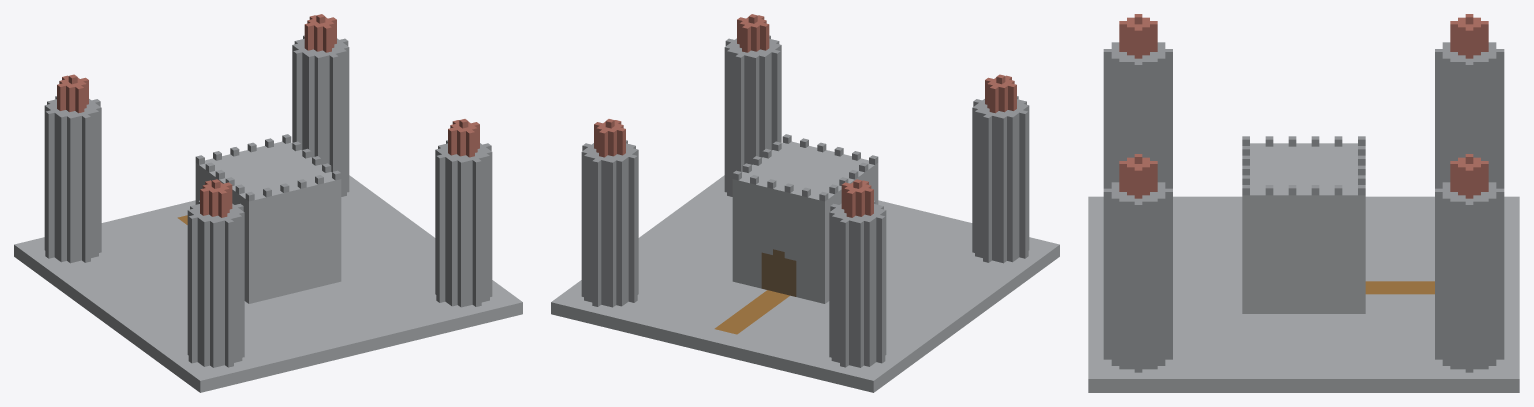
File: castle.glb
3 renders of one model, left to right at view 1: azimuth 30°, elevation 25°; view 2: azimuth 150°, elevation 25°; view 3: azimuth 270°, elevation 25°, orthographic. The views are drawn at different scales.
Size of the model in its own units: 56 by 31 by 56.
